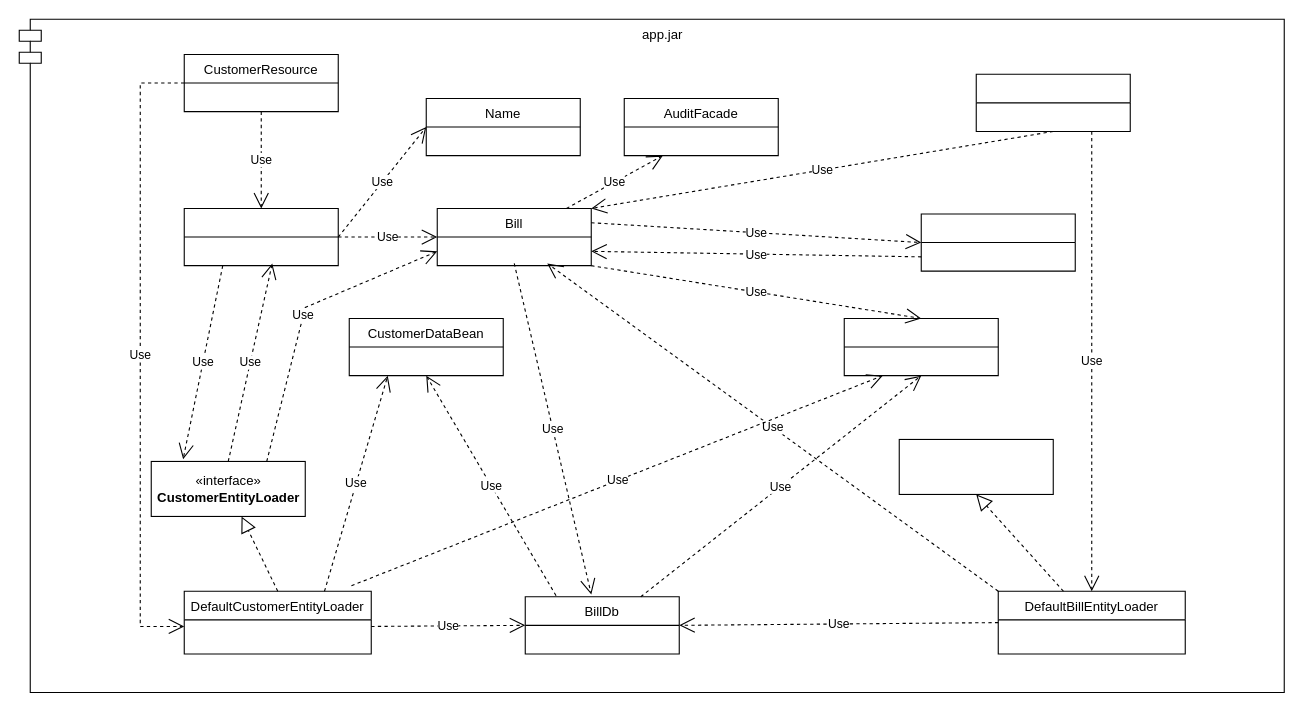
Image size: 1304x712. Some labels were removed from this diagram. Each missing label, with the centre of its shape:
BillDataBean: (x=920, y=346)
BillResource: (x=1052, y=102)
Customer: (x=260, y=236)
Payment: (x=997, y=242)
«interface» BillEntityLoader: (x=975, y=466)
